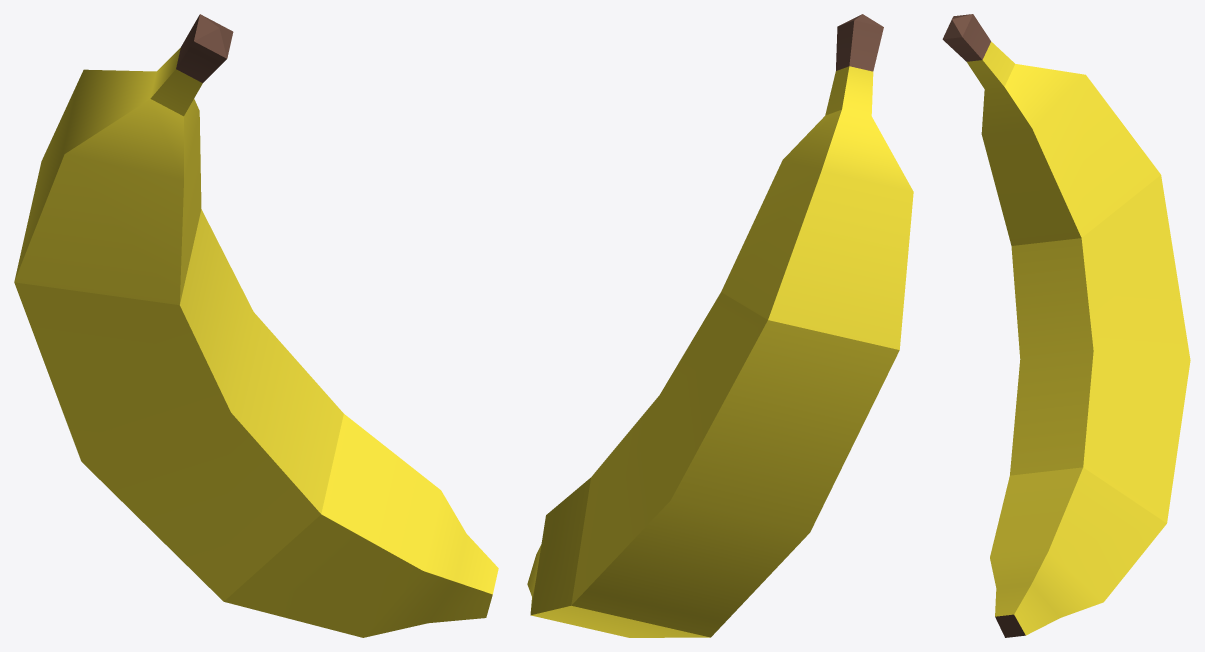
The model's file is banana.glb.
3 views of the same model, side by side, from view 1: azimuth 30°, elevation 25°; view 2: azimuth 150°, elevation 25°; view 3: azimuth 270°, elevation 25° (orthographic). The views are drawn at different scales.
Visible parts, largest first — view 1: pasted__pCube11 group; view 2: pasted__pCube11 group; view 3: pasted__pCube11 group.
Part boxes in pixels (left/top/right/bottom): pasted__pCube11 group: left=14, top=14, right=498, bottom=637; pasted__pCube11 group: left=527, top=14, right=913, bottom=637; pasted__pCube11 group: left=942, top=14, right=1190, bottom=637.
Size of the model in its own units: 1.15 by 1.73 by 0.7463.
